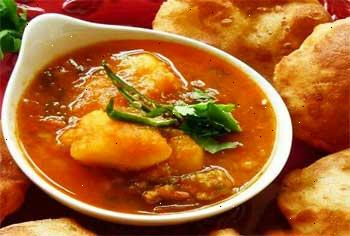puri: (286, 9, 350, 234)
